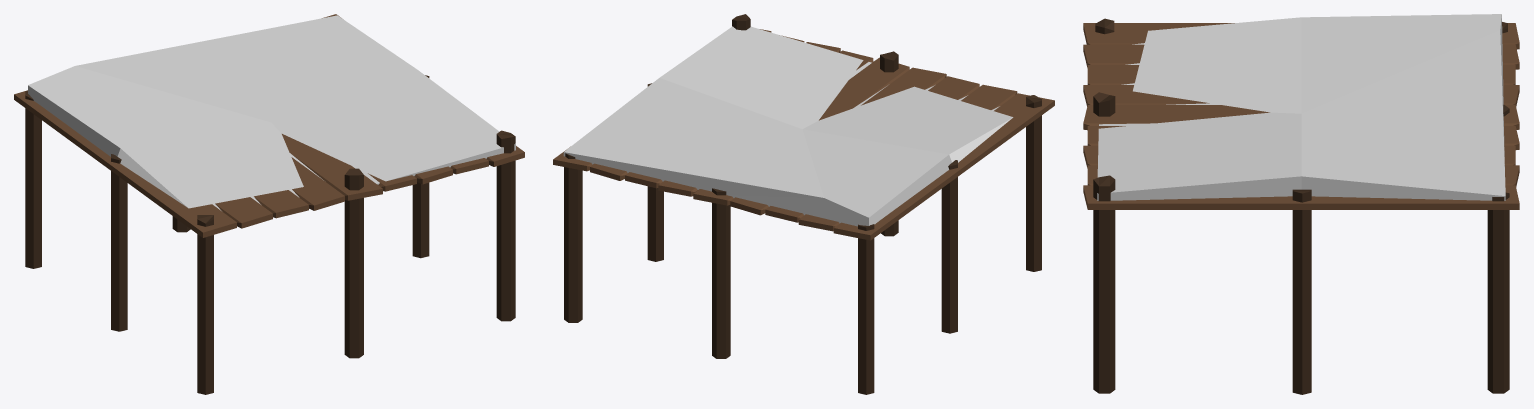
File: fishery_house_base_snow_mat.fbx
3 renders of one model, left to right at view 1: azimuth 30°, elevation 25°; view 2: azimuth 150°, elevation 25°; view 3: azimuth 270°, elevation 25°, orthographic. The views are drawn at different scales.
Parts seen in each view (by area): view 1: fishery_house_base_snow_mat; view 2: fishery_house_base_snow_mat; view 3: fishery_house_base_snow_mat.
Boxes of the visible parts, left/top/right/bottom form: fishery_house_base_snow_mat: left=14, top=14, right=524, bottom=394; fishery_house_base_snow_mat: left=553, top=14, right=1054, bottom=394; fishery_house_base_snow_mat: left=1083, top=14, right=1519, bottom=394.
Bounding box in the file's own units: 330 × 183 × 337.
